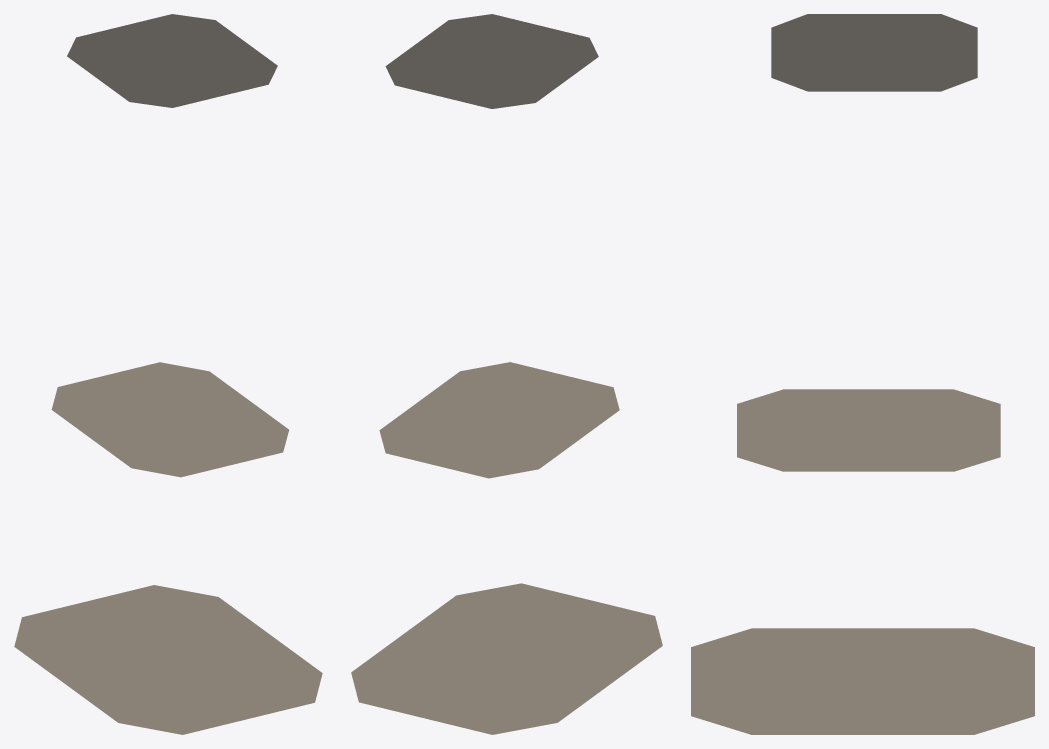
File: 1345-Buildings-shell-pieces-roof-polygon-plan-emitPolygonRoof-18-triangles-11-00-x-30.glb
The picture shows the model from 3 angles, left to right: view 1: azimuth 30°, elevation 25°; view 2: azimuth 150°, elevation 25°; view 3: azimuth 270°, elevation 25°; orthographic projection. The views are drawn at different scales.
Parts seen in each view (by area): view 1: emitPolygonRoof; view 2: emitPolygonRoof; view 3: emitPolygonRoof.
Boxes of the visible parts, x1,y1,x2,y2 form: emitPolygonRoof: [14, 14, 322, 734]; emitPolygonRoof: [351, 14, 662, 734]; emitPolygonRoof: [691, 14, 1034, 734].
Size of the model in its own units: 11 by 30.49 by 15.
